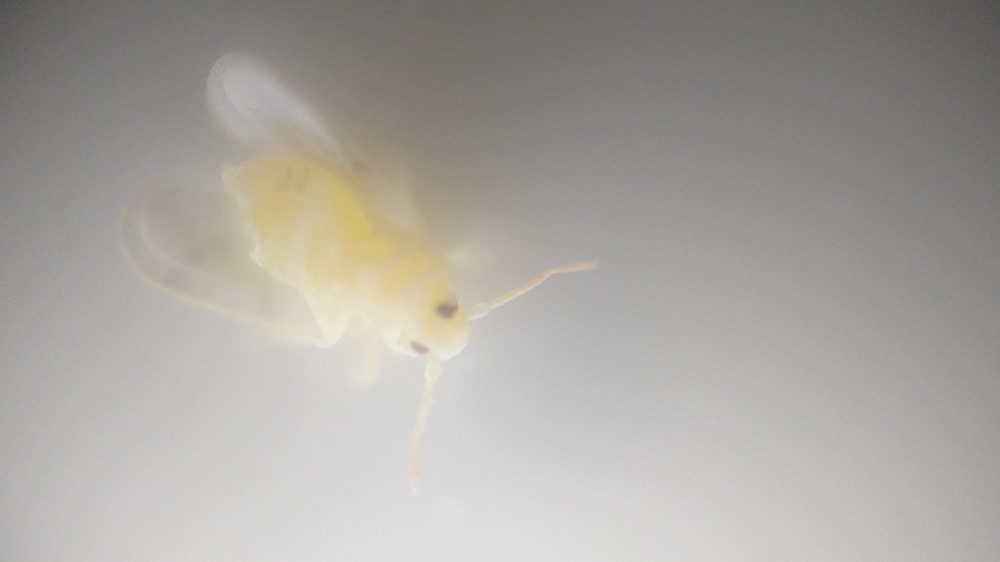Mosca Blanca: (119, 41, 614, 506)
